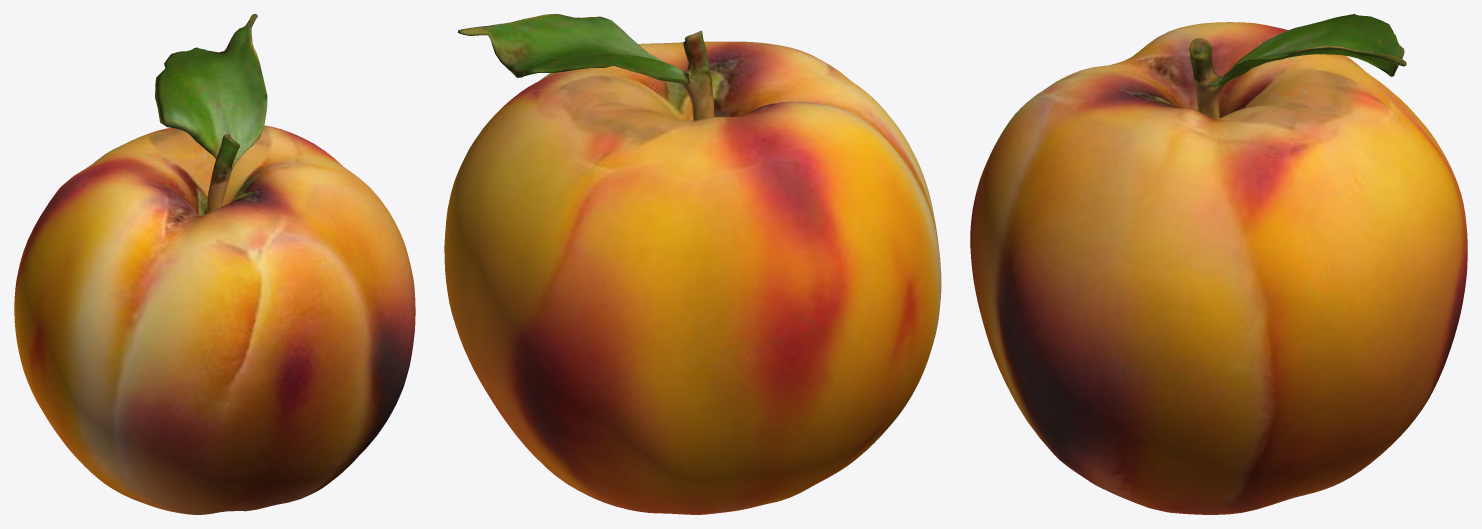
3 views of the same model, side by side, from view 1: azimuth 30°, elevation 25°; view 2: azimuth 150°, elevation 25°; view 3: azimuth 270°, elevation 25° (orthographic). The views are drawn at different scales.
Bounding box in the file's own units: 1.86 × 1.99 × 1.86.
Materials: 1 (1 with a texture image).
